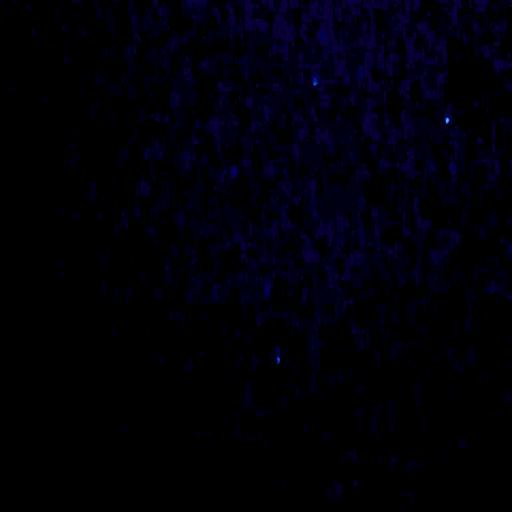object-detection-project: (275, 347, 282, 364), (312, 77, 318, 85), (446, 118, 449, 123)
